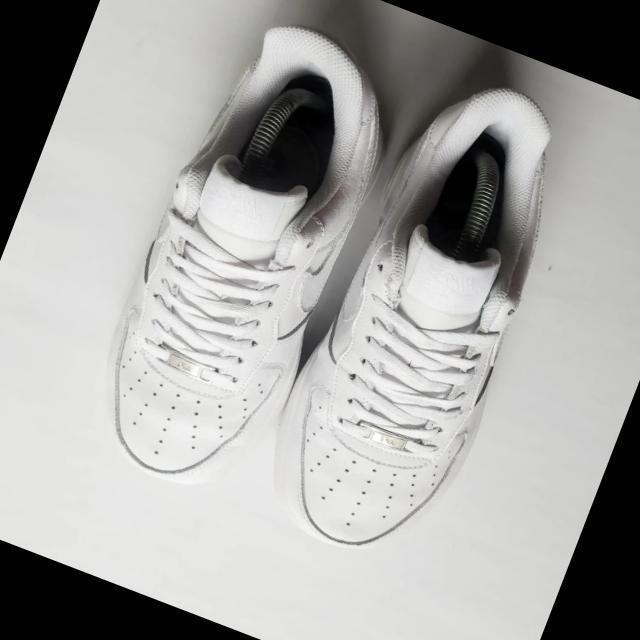nike fake air force: (246, 40, 607, 577), (71, 0, 427, 512)
